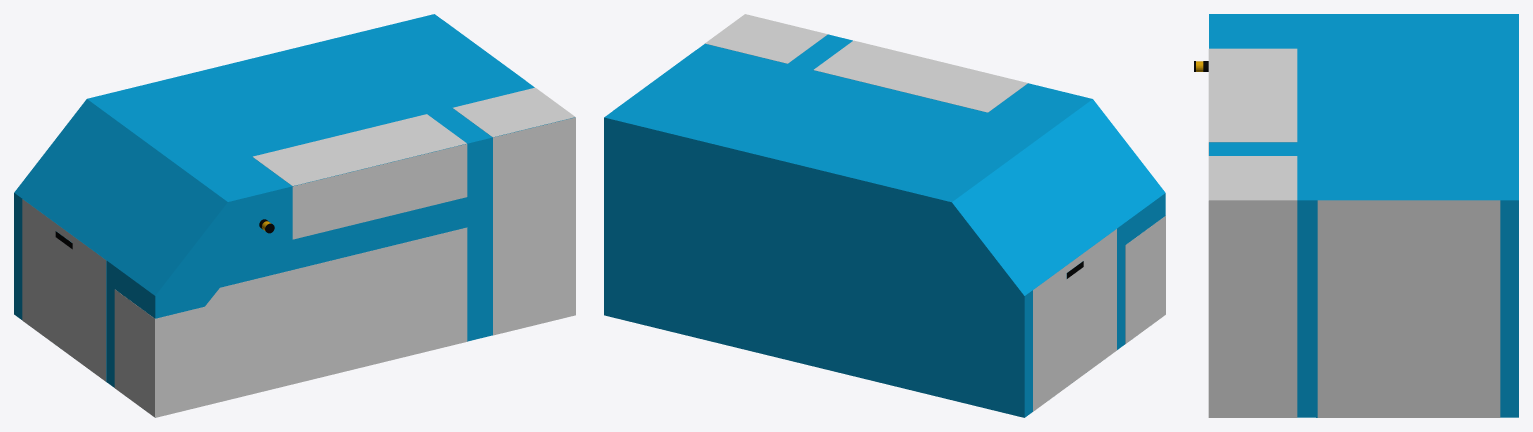
Rendered from laser-source.glb.
The picture shows the model from 3 angles, left to right: view 1: azimuth 30°, elevation 25°; view 2: azimuth 150°, elevation 25°; view 3: azimuth 270°, elevation 25°; orthographic projection. The views are drawn at different scales.
Bounding box in the file's own units: 2893 × 1303 × 1760.
